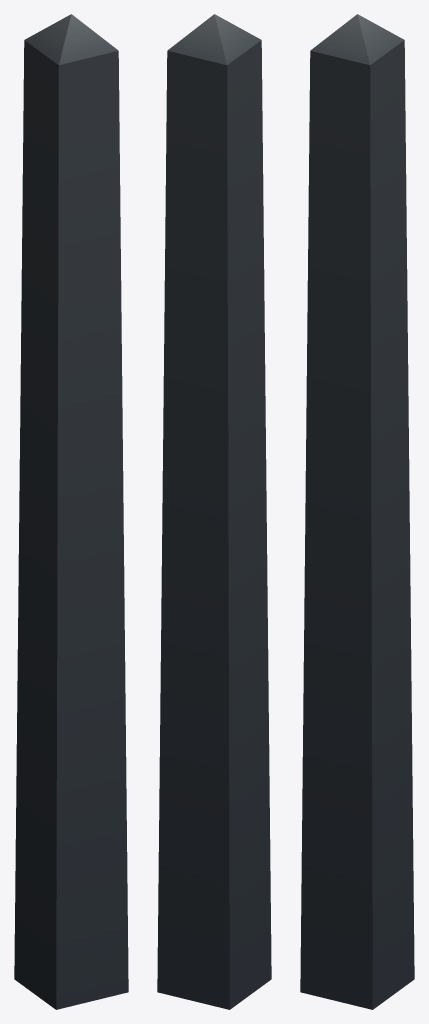
Rendered from Fence_Column_Iron_01.fbx.
3 renders of one model, left to right at view 1: azimuth 30°, elevation 25°; view 2: azimuth 150°, elevation 25°; view 3: azimuth 330°, elevation 25°, orthographic.
Parts seen in each view (by area): view 1: Fence_Column_Iron_01; view 2: Fence_Column_Iron_01; view 3: Fence_Column_Iron_01.
Part boxes in pixels (x1=…): Fence_Column_Iron_01: x1=14, y1=14, x2=128, y2=1009; Fence_Column_Iron_01: x1=157, y1=14, x2=271, y2=1009; Fence_Column_Iron_01: x1=300, y1=14, x2=414, y2=1009.
Size of the model in its own units: 24.18 by 310 by 24.18.
